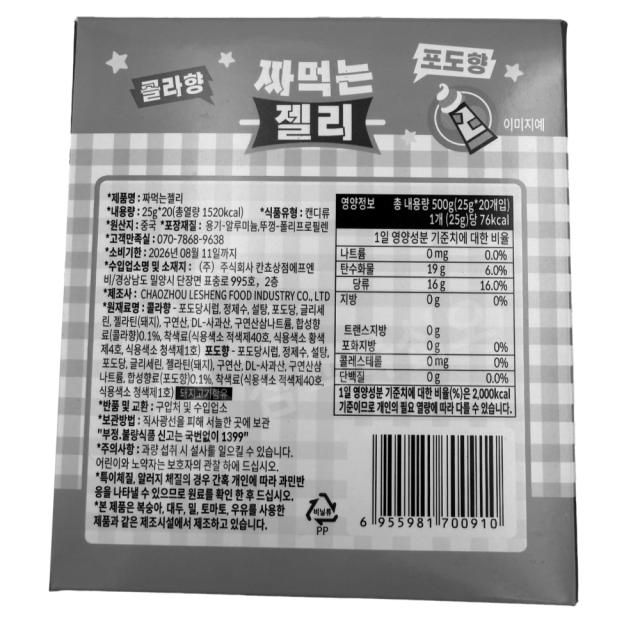Nutrition Label: (330, 184, 529, 434)
